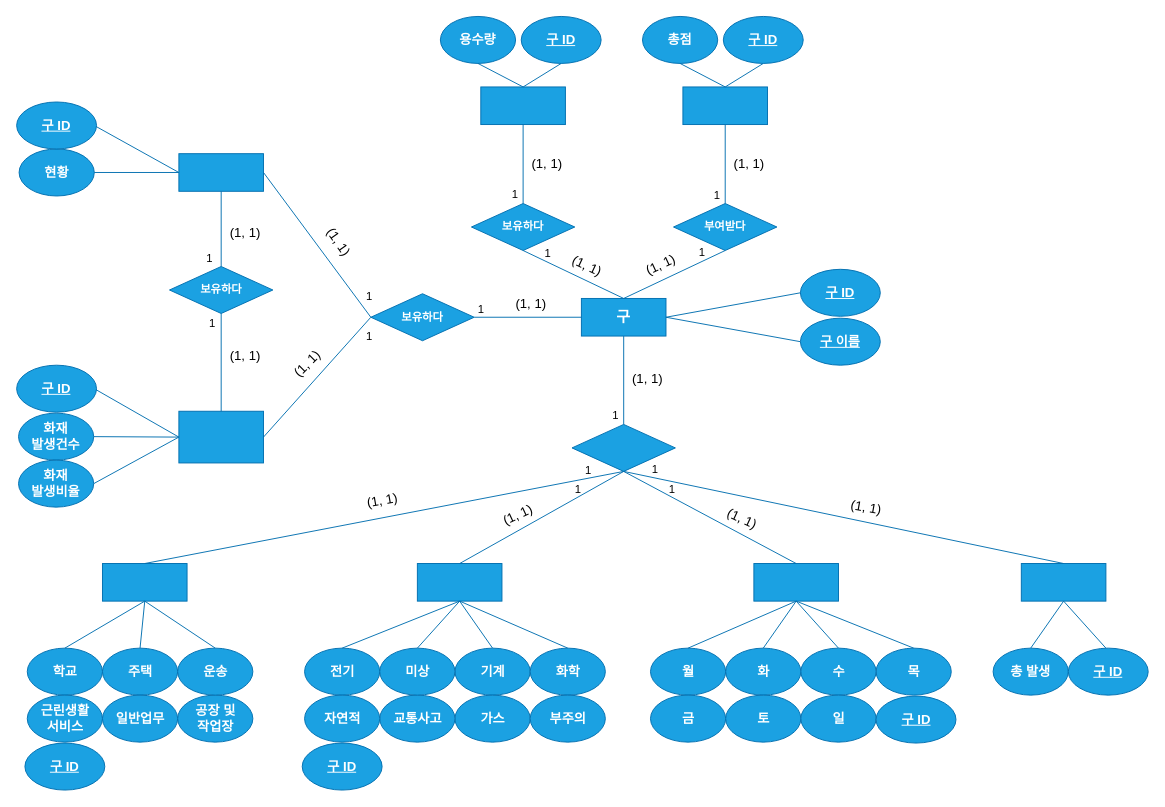
This 1165x807 diagram has some shape labels left out. Each missing label, with the centre of its shape:
"구별 소방대상물" belongs at [220,172].
"구별 소방대상물 화재발생" belongs at [220,436].
"구별 소방용수 수" belongs at [522,105].
"구별 화재안전점수" belongs at [725,105].
"요일별 화재건수" belongs at [795,582].
"원인별 화재건수" belongs at [459,582].
"장소별 화재건수" belongs at [144,582].
"화재발생" belongs at [623,447].
"화재발생 통계" belongs at [1063,582].
